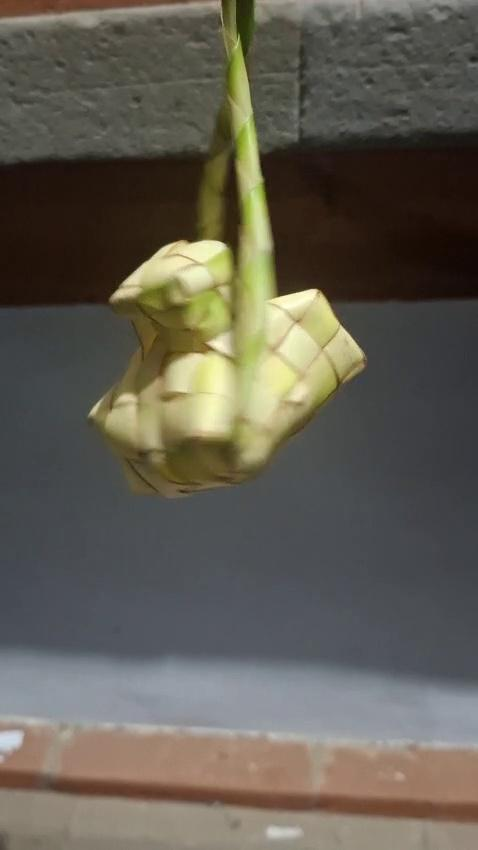Tipat Gong: (88, 6, 369, 506)
